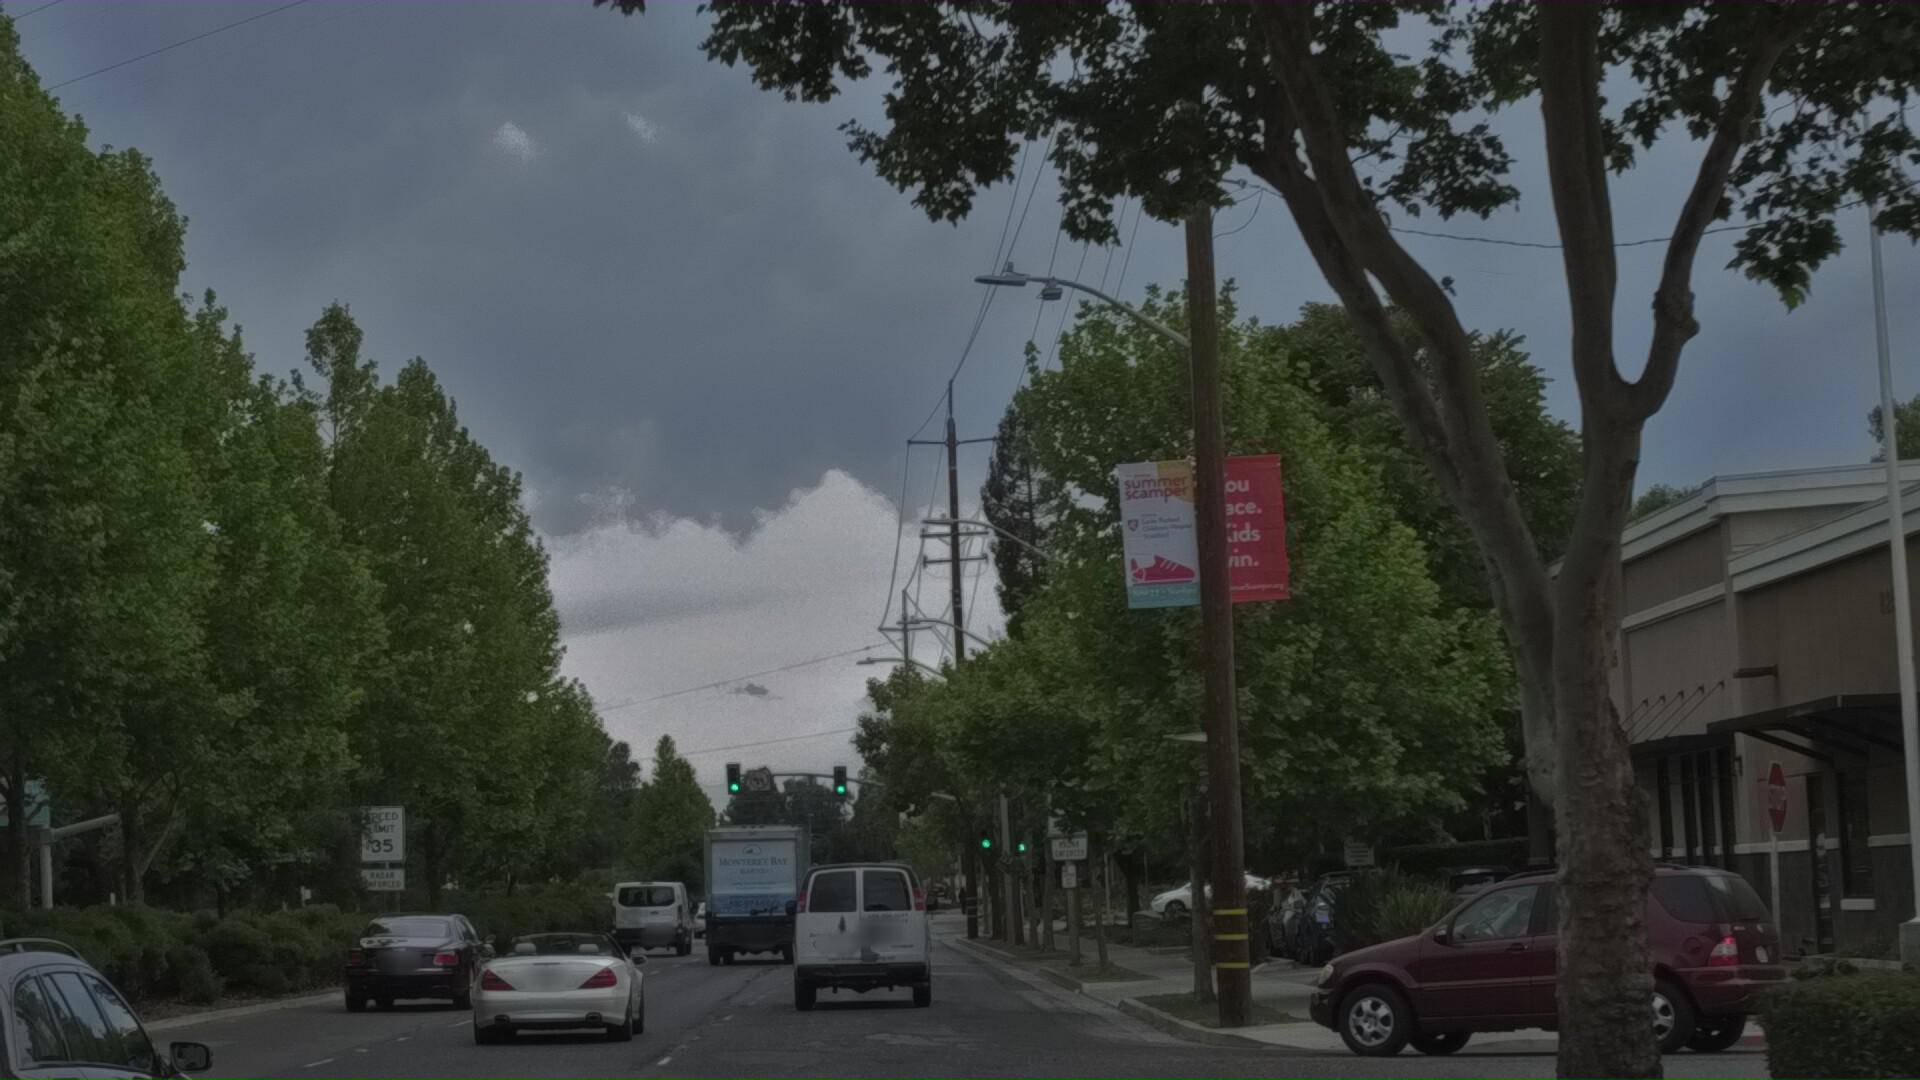car: (1280, 858, 1845, 1080), (0, 928, 257, 1080), (473, 949, 687, 1080), (1280, 891, 1403, 985), (1894, 872, 1920, 1080), (0, 907, 22, 1080)
truck: (790, 878, 964, 1064), (340, 935, 522, 1069)
